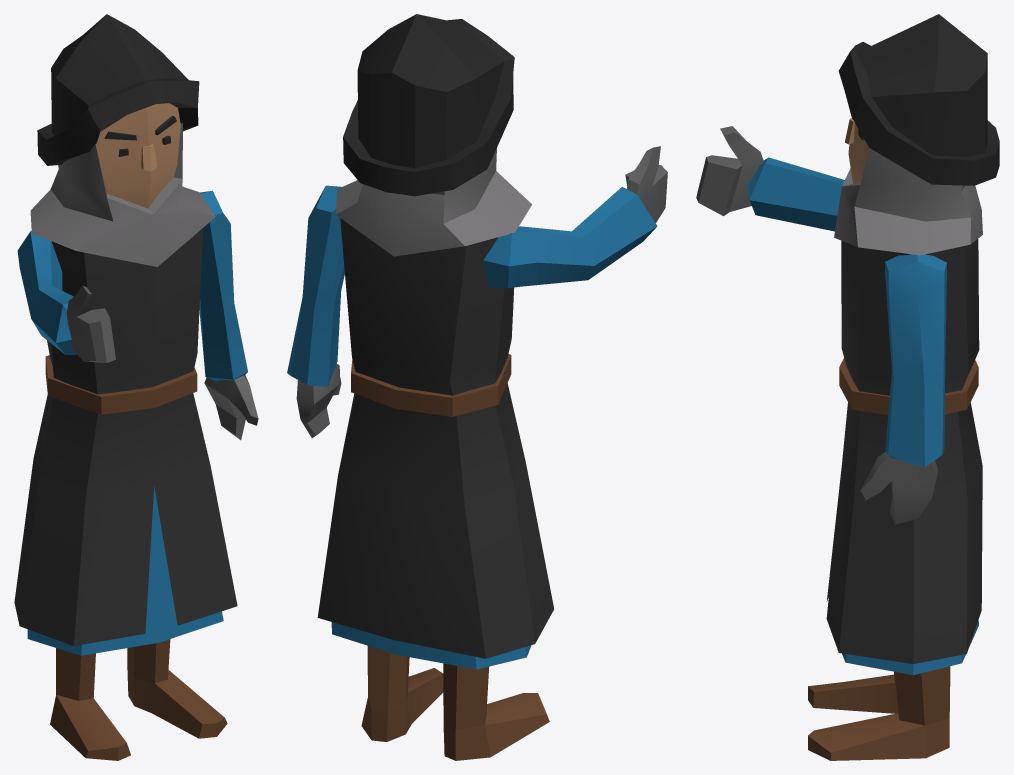
File: Guard_2.fbx
The picture shows the model from 3 angles, left to right: view 1: azimuth 30°, elevation 25°; view 2: azimuth 150°, elevation 25°; view 3: azimuth 270°, elevation 25°; orthographic projection. The views are drawn at different scales.
Parts seen in each view (by area): view 1: Guard_2; view 2: Guard_2; view 3: Guard_2.
Part boxes in pixels (left/top/right/bottom): Guard_2: left=14, top=14, right=258, bottom=760; Guard_2: left=287, top=14, right=667, bottom=760; Guard_2: left=696, top=14, right=999, bottom=760.
Bounding box in the file's own units: 48.85 × 120 × 46.26.
